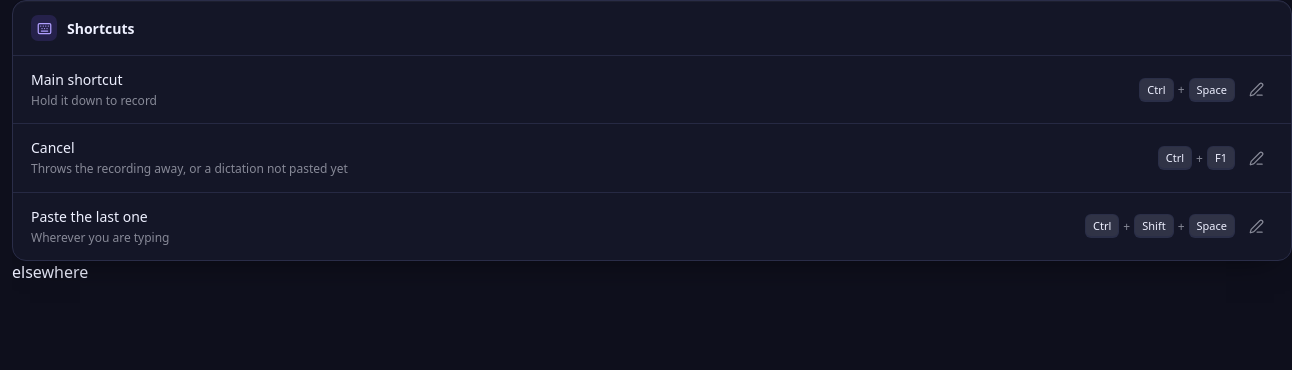
ShortcutsSection › keeps the dictation shortcuts off while the edit is still open after a refused save
The image size is (1292, 370).
Click the button named "Edit" at (1256, 90), box [1239,73,1273,107]
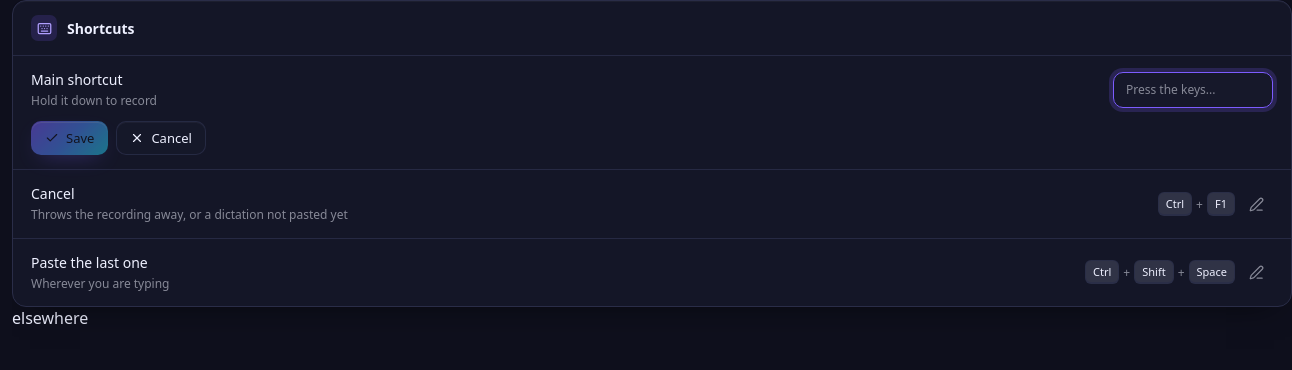
Type keys "{Control>}k{/Control}"
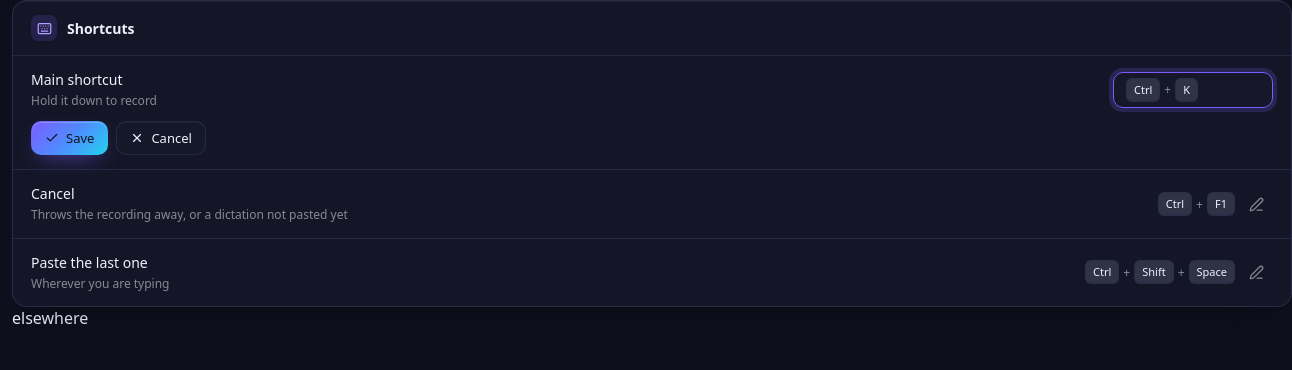
Press Tab
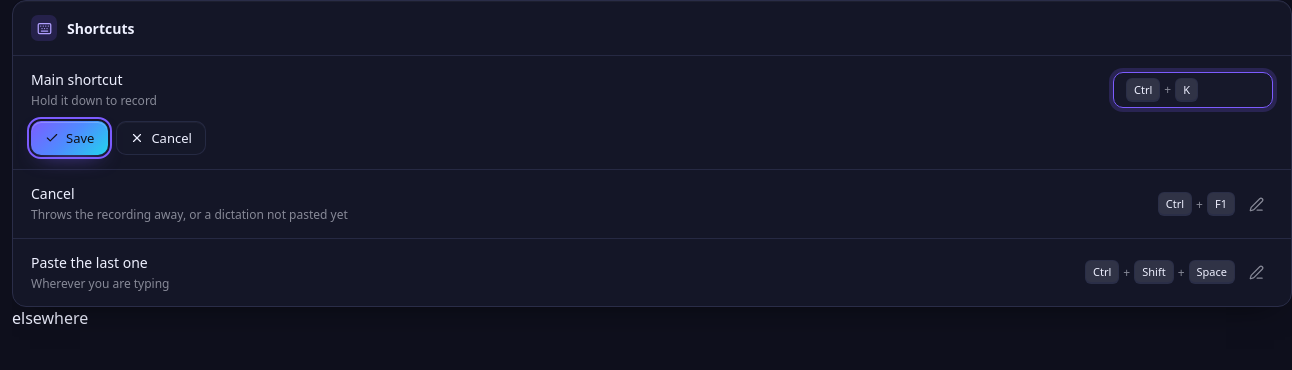
Press Enter
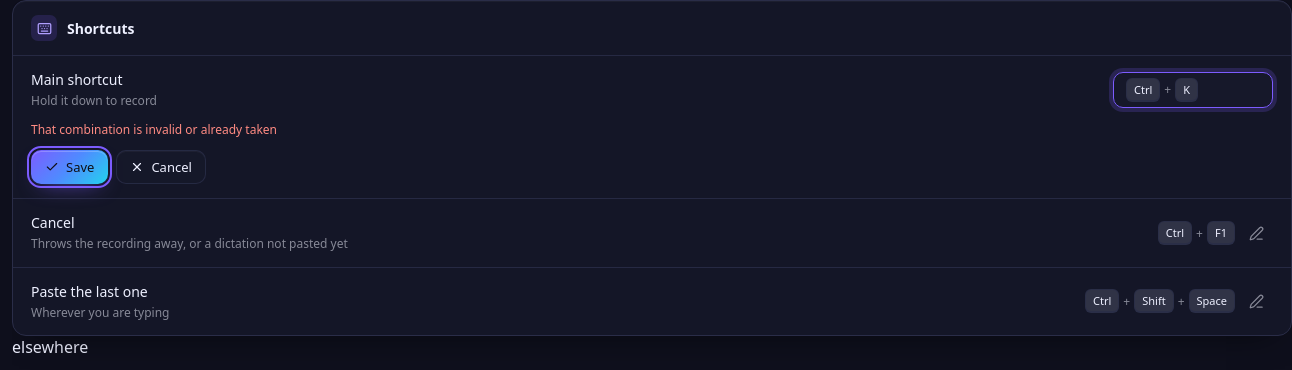
Expected: the button "Save" is shown, [31,150,108,184]
Expected: the text "That combination is invalid or already taken" is shown, [31,121,277,138]
